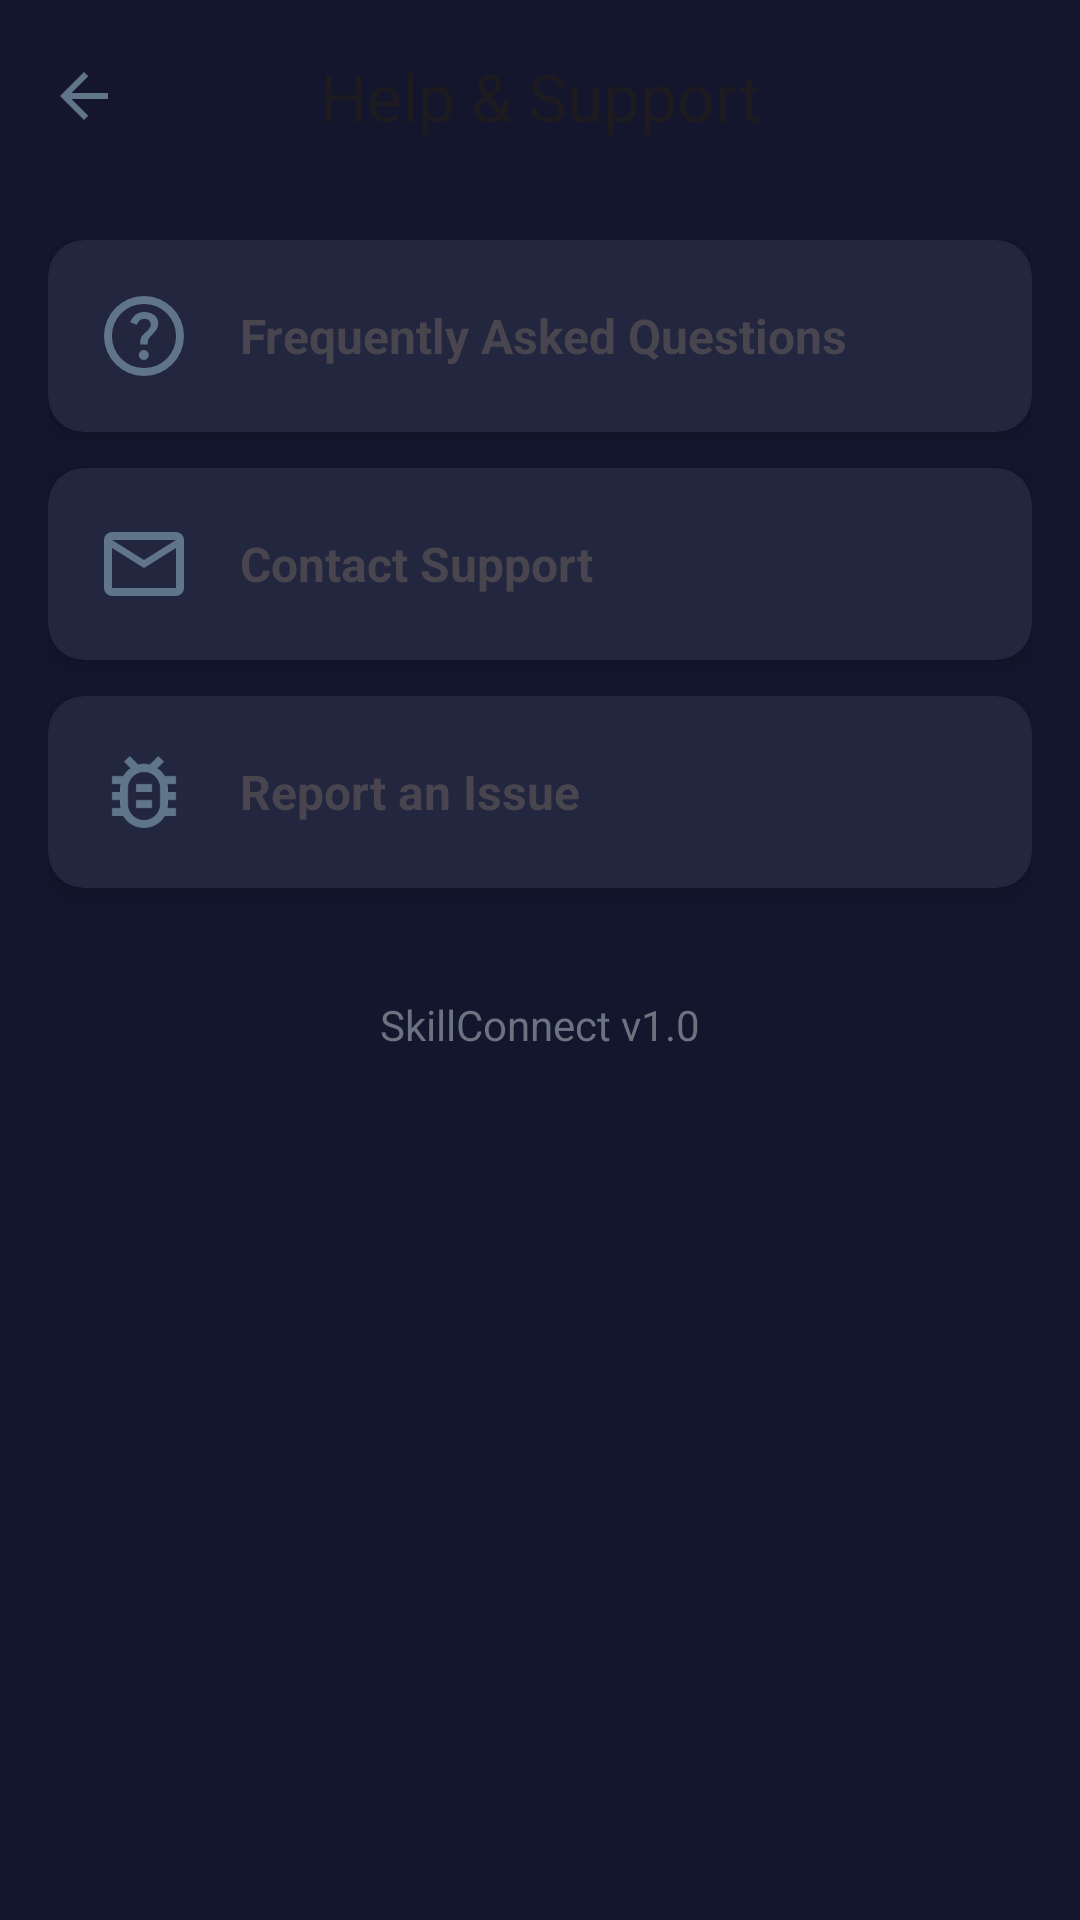

Locate icon controls on the screen. Image size 1080px x 1920px, boxes as bbox(x1, y1, x2, y2).
email: bbox(104, 532, 184, 596)
report bug: bbox(112, 756, 176, 828)
